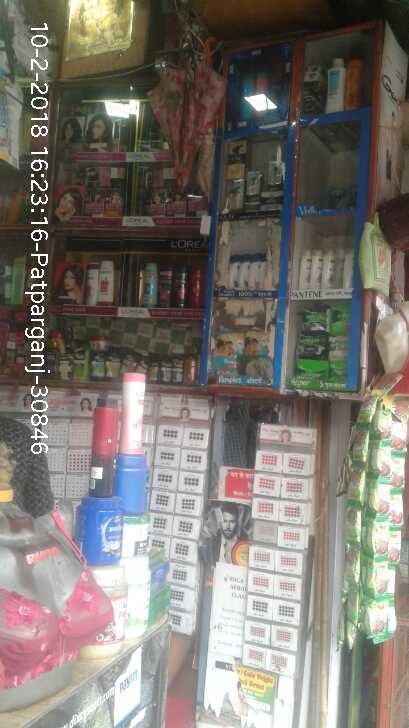venus: (324, 184, 357, 207)
